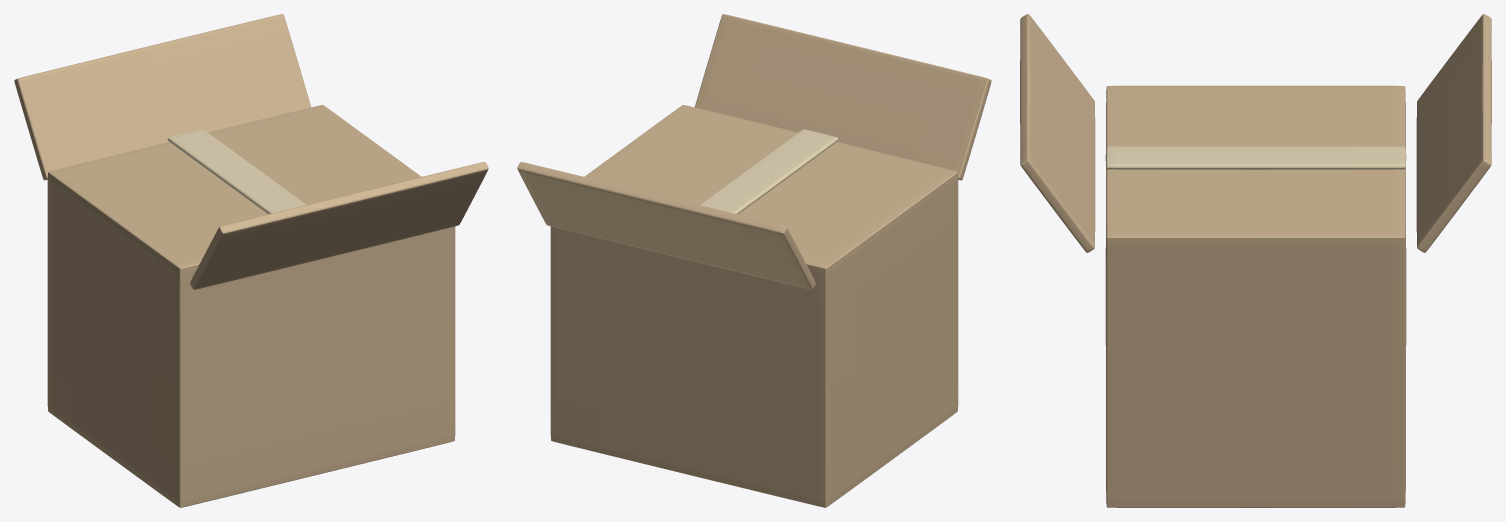
File: attic_box.glb
3 renders of one model, left to right at view 1: azimuth 30°, elevation 25°; view 2: azimuth 150°, elevation 25°; view 3: azimuth 270°, elevation 25°, orthographic. The views are drawn at different scales.
Visible parts, largest first — view 1: attic_box; view 2: attic_box; view 3: attic_box.
Part boxes in pixels (<box>): attic_box: <box>14,14,488,507</box>; attic_box: <box>517,14,991,507</box>; attic_box: <box>1020,14,1491,507</box>.
Size of the model in its own units: 0.5999 by 0.6359 by 0.785.
